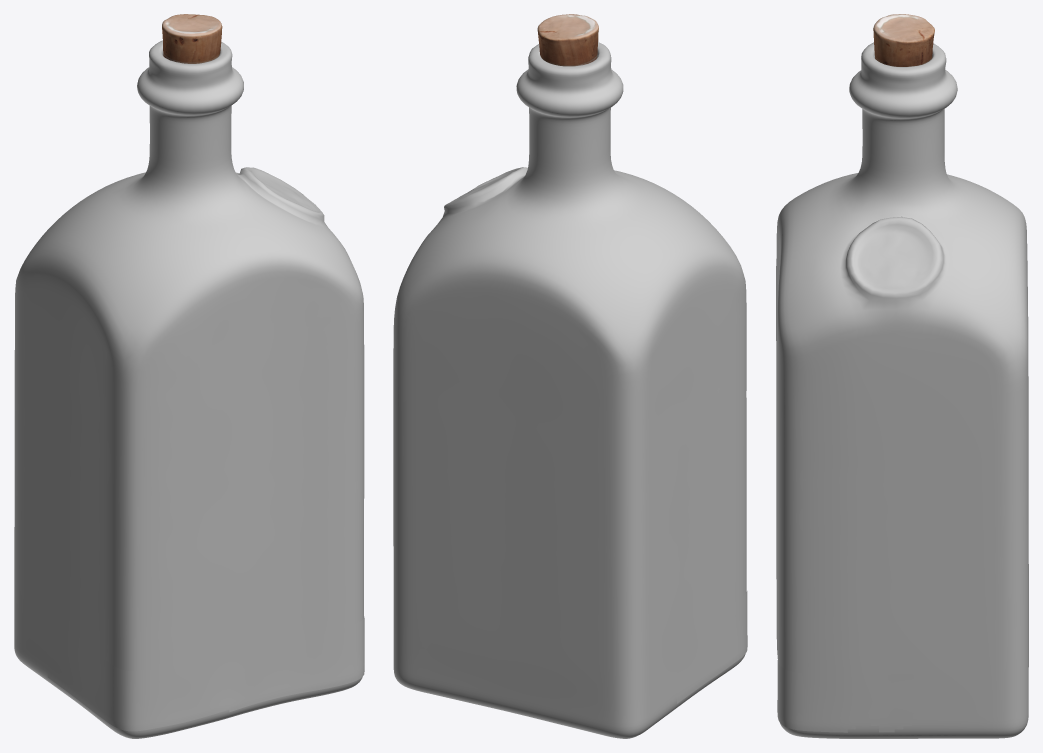
3 views of the same model, side by side, from view 1: azimuth 30°, elevation 25°; view 2: azimuth 150°, elevation 25°; view 3: azimuth 270°, elevation 25° (orthographic).
Visible parts, largest first — view 1: MZ_25_d_Butelka_na_alkohol_edit06_2, MZ_25_d_etykieta_edit06_3, MZ_25_d_korek_edit06_4; view 2: MZ_25_d_Butelka_na_alkohol_edit06_2, MZ_25_d_etykieta_edit06_3, MZ_25_d_korek_edit06_4; view 3: MZ_25_d_Butelka_na_alkohol_edit06_2, MZ_25_d_etykieta_edit06_3, MZ_25_d_korek_edit06_4.
Boxes of the visible parts, x1,y1,x2,y2 form: MZ_25_d_Butelka_na_alkohol_edit06_2: [14, 40, 364, 738]; MZ_25_d_etykieta_edit06_3: [47, 323, 364, 731]; MZ_25_d_korek_edit06_4: [162, 14, 222, 63]; MZ_25_d_Butelka_na_alkohol_edit06_2: [393, 42, 746, 738]; MZ_25_d_etykieta_edit06_3: [676, 591, 747, 703]; MZ_25_d_korek_edit06_4: [537, 14, 598, 66]; MZ_25_d_Butelka_na_alkohol_edit06_2: [776, 42, 1028, 738]; MZ_25_d_etykieta_edit06_3: [776, 266, 916, 732]; MZ_25_d_korek_edit06_4: [873, 14, 934, 66].
Size of the model in its own units: 0.3575 by 0.8788 by 0.3058.
